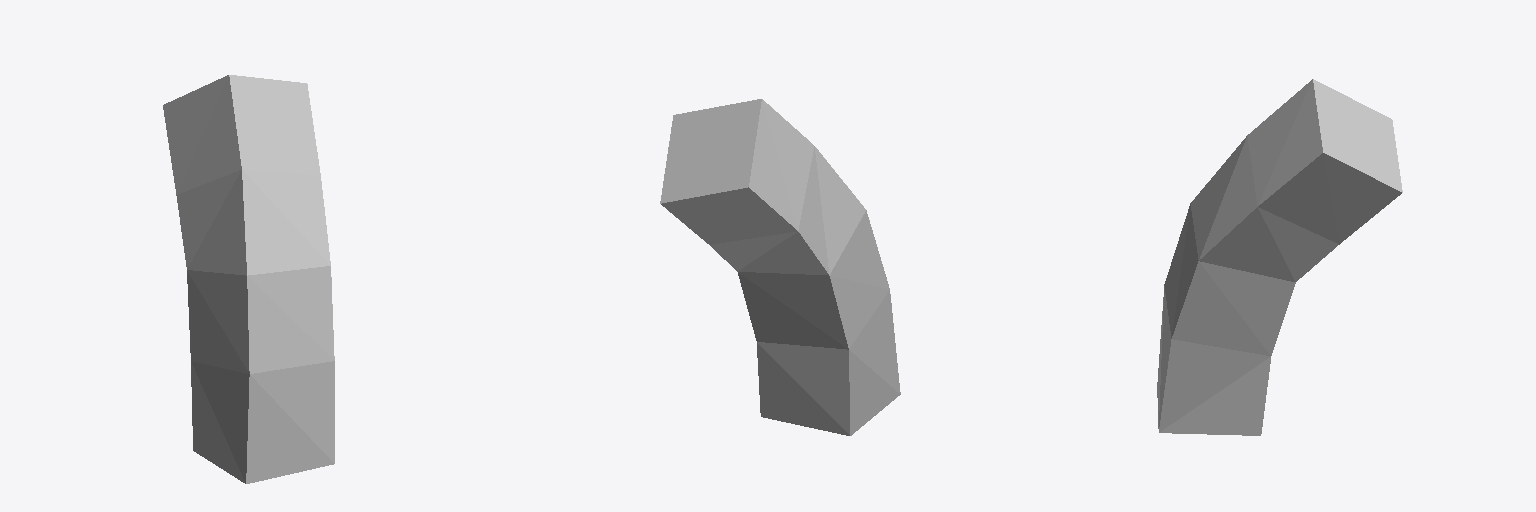
Rendered from wiggle_000029.obj.
The picture shows the model from 3 angles: view 1: azimuth 30°, elevation 25°; view 2: azimuth 150°, elevation 25°; view 3: azimuth 270°, elevation 25°; orthographic projection.
Parts seen in each view (by area): view 1: Cube; view 2: Cube; view 3: Cube.
Boxes of the visible parts, x1=… form: Cube: x1=163, y1=75, x2=334, y2=483; Cube: x1=660, y1=99, x2=900, y2=435; Cube: x1=1157, y1=79, x2=1402, y2=435.
Size of the model in its own units: 3.26 by 7.33 by 4.75.